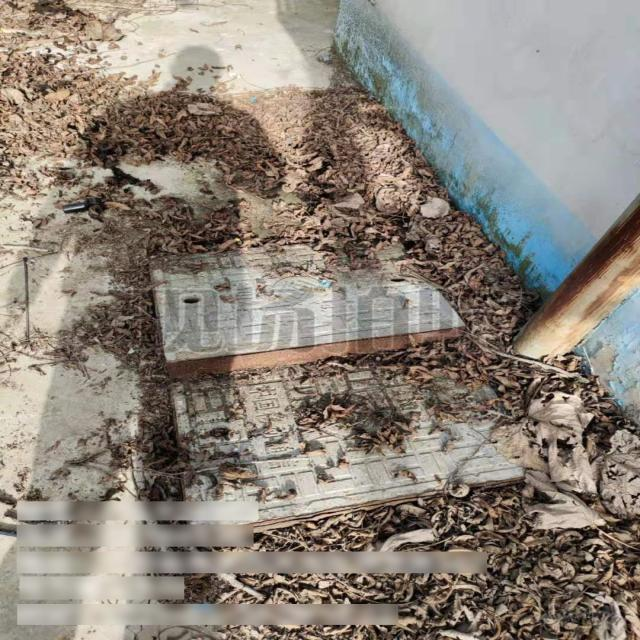Faulty: (145, 238, 532, 532)
